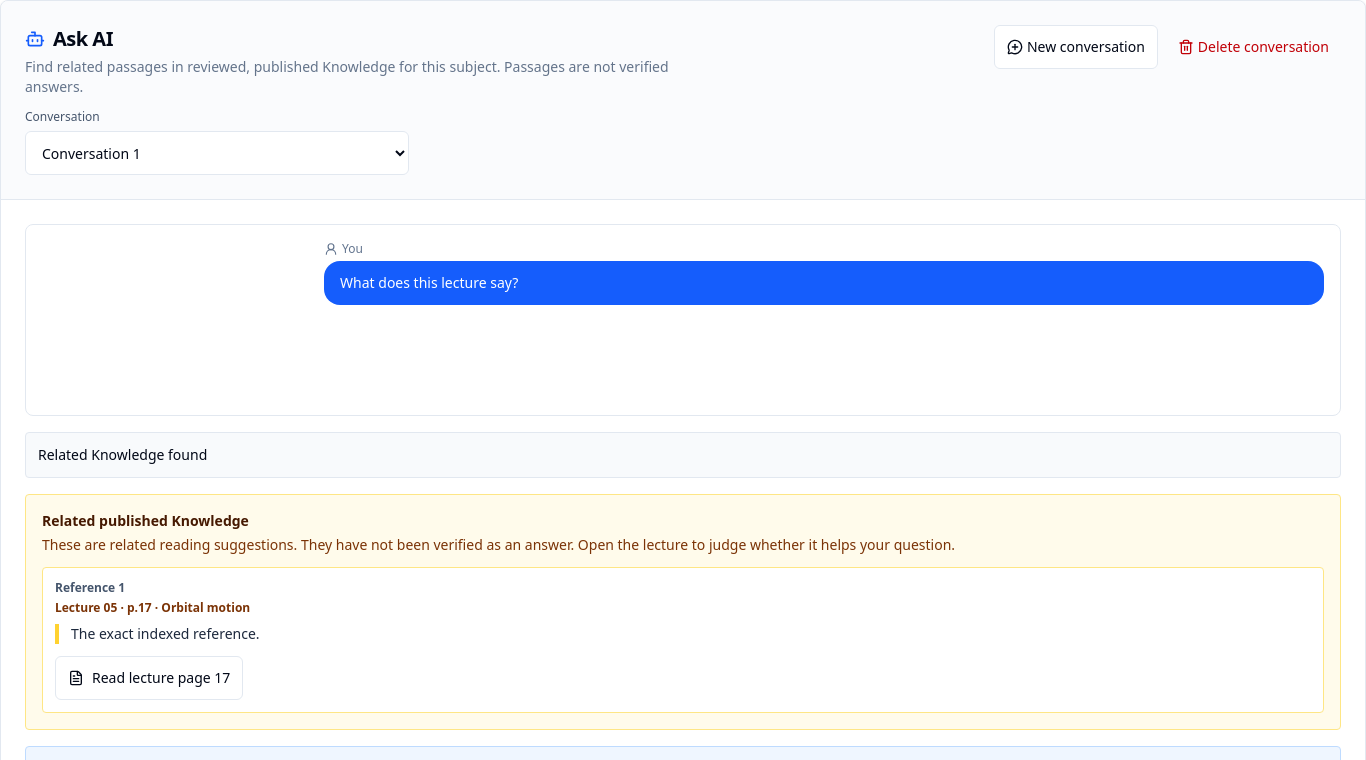
Scenario: shows exact related Knowledge and opens the current extracted page with the reference marked
Expected: the text "Related Knowledge found" is shown, [38,445,207,465]
Expected: the text "The exact indexed reference." is shown, [55,624,1311,644]
Click the button "Read lecture page 17".
click(149, 678)  # box [55,656,243,700]
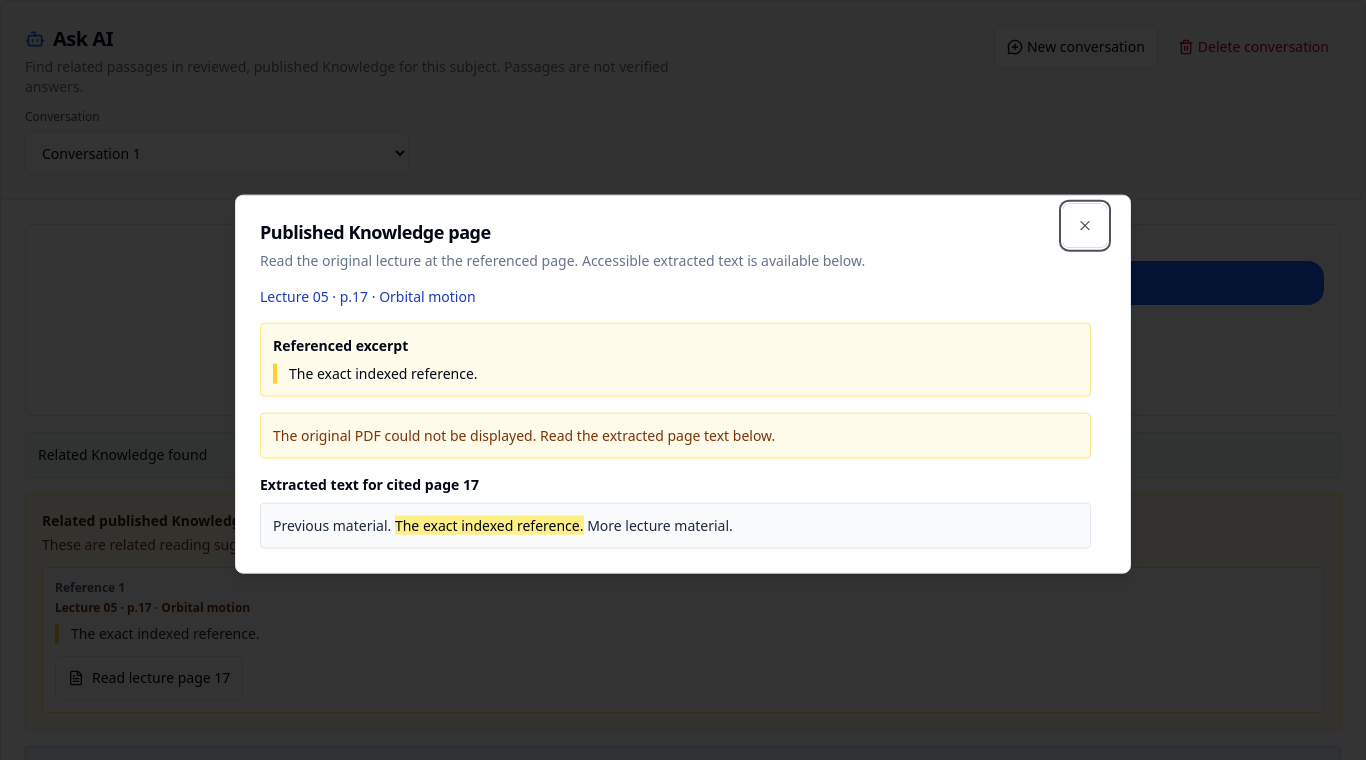
Now the dialog "Published Knowledge page" is shown, box [235,195,1131,573]
Now the text "The exact indexed reference." next to "Previous material." is shown, box [395,515,584,534]
Now the text "Read the original lecture at the referenced page. Accessible extracted text is available below." is shown, box [260,250,865,269]
